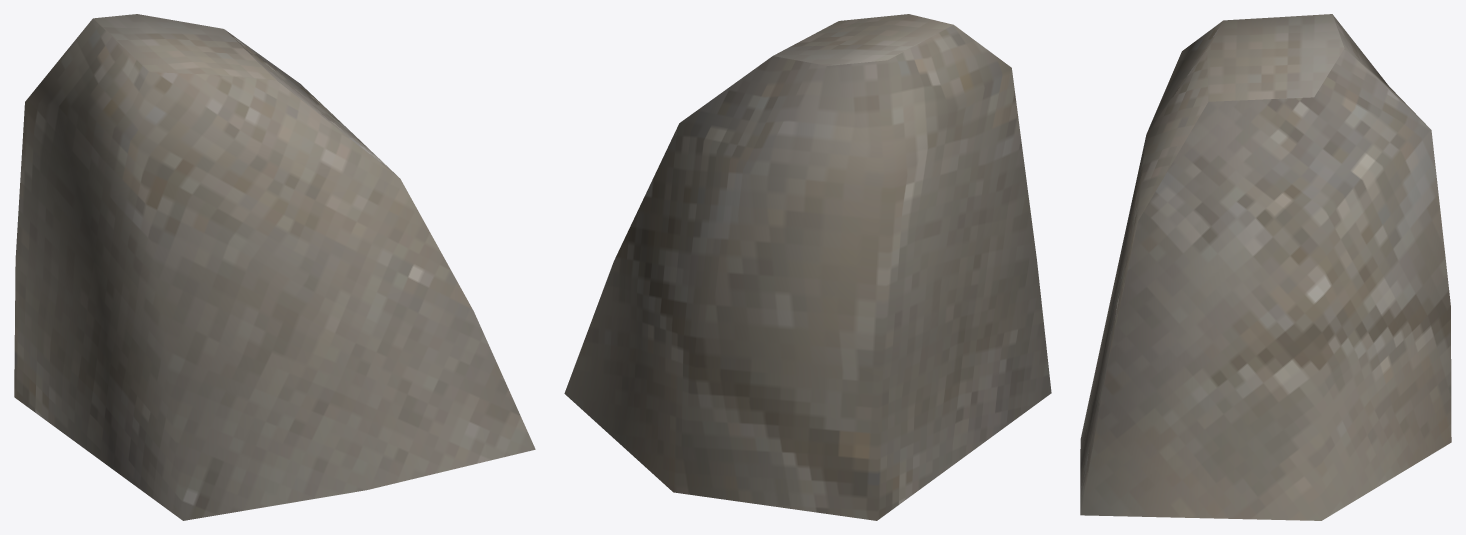
File: rock_5.fbx
3 renders of one model, left to right at view 1: azimuth 30°, elevation 25°; view 2: azimuth 150°, elevation 25°; view 3: azimuth 270°, elevation 25°, orthographic. The views are drawn at different scales.
Parts seen in each view (by area): view 1: rock_5; view 2: rock_5; view 3: rock_5.
Boxes of the visible parts, bbox=[...] form: rock_5: bbox=[14, 14, 535, 520]; rock_5: bbox=[564, 14, 1051, 520]; rock_5: bbox=[1080, 14, 1451, 520].
Bounding box in the file's own units: 86.52 × 86.36 × 94.17.
